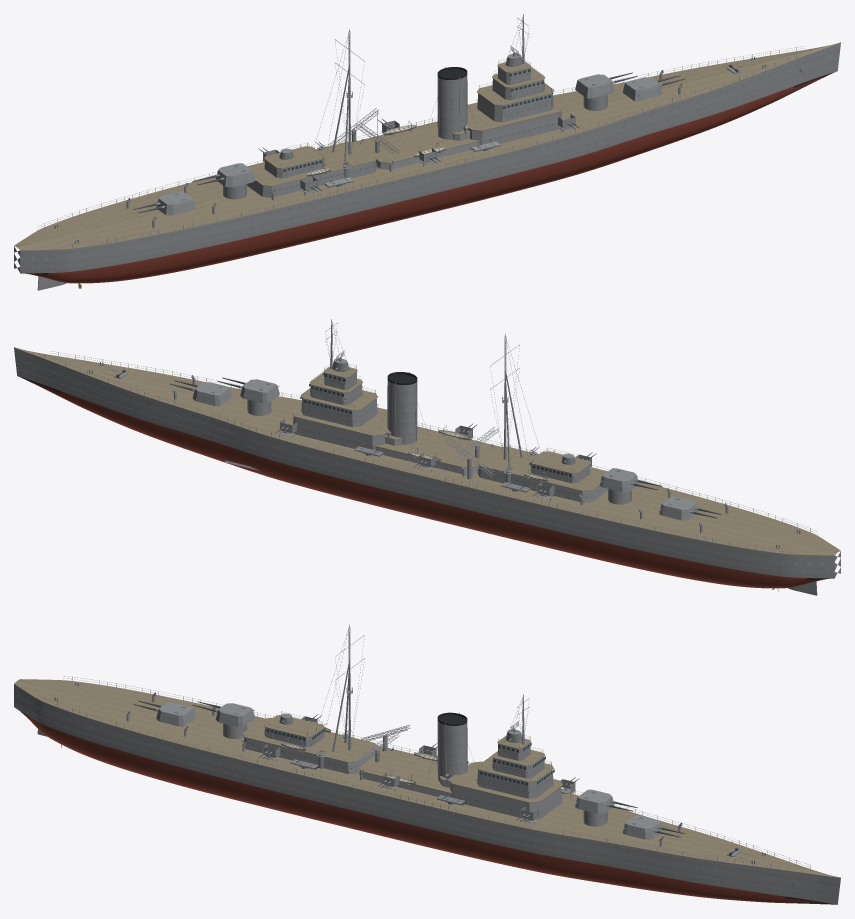
File: demo-prinz-eugen.glb
The picture shows the model from 3 angles, top to bottom: view 1: azimuth 30°, elevation 25°; view 2: azimuth 150°, elevation 25°; view 3: azimuth 330°, elevation 25°; orthographic projection.
Visible parts, largest first — view 1: Prinz Eugen, 1941 exterior interpretation; view 2: Prinz Eugen, 1941 exterior interpretation; view 3: Prinz Eugen, 1941 exterior interpretation.
Part boxes in pixels (x1,y1,x2,y2): Prinz Eugen, 1941 exterior interpretation: (14,14,840,290); Prinz Eugen, 1941 exterior interpretation: (14,319,840,595); Prinz Eugen, 1941 exterior interpretation: (14,624,840,904).
Bounding box in the file's own units: 208 × 45.4 × 26.01.
Materials: 8 (2 with a texture image).
